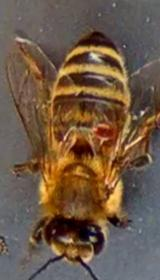varroa_mite: (84, 115, 120, 146)
